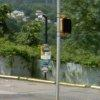Tree: (3, 3, 47, 67)
